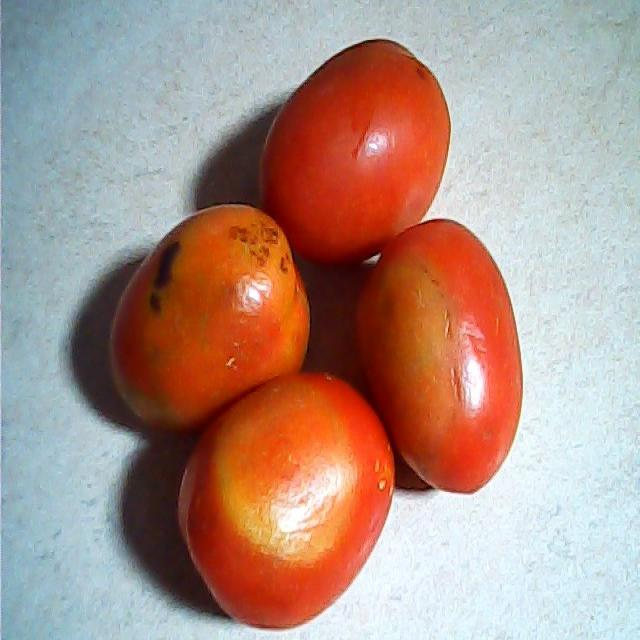defectuoso: (107, 200, 313, 435)
maduro: (178, 370, 397, 628), (357, 223, 528, 501), (292, 29, 454, 269)
